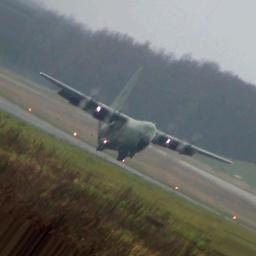Airplane: (39, 63, 234, 167)
